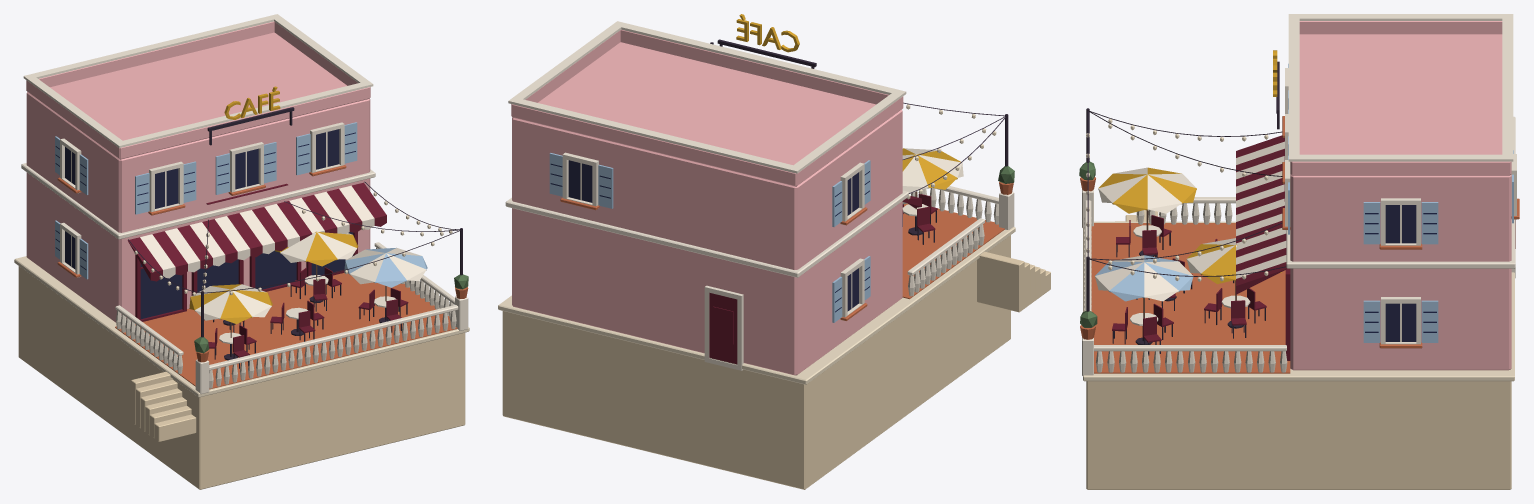
File: cafe.glb
3 renders of one model, left to right at view 1: azimuth 30°, elevation 25°; view 2: azimuth 150°, elevation 25°; view 3: azimuth 270°, elevation 25°, orthographic. The views are drawn at different scales.
Parts seen in each view (by area): view 1: cafe; view 2: cafe; view 3: cafe.
Part boxes in pixels (bbox=[...]): cafe: bbox=[14, 14, 469, 489]; cafe: bbox=[498, 14, 1050, 489]; cafe: bbox=[1079, 14, 1519, 489].
Size of the model in its own units: 12.23 by 11.63 by 12.95.
